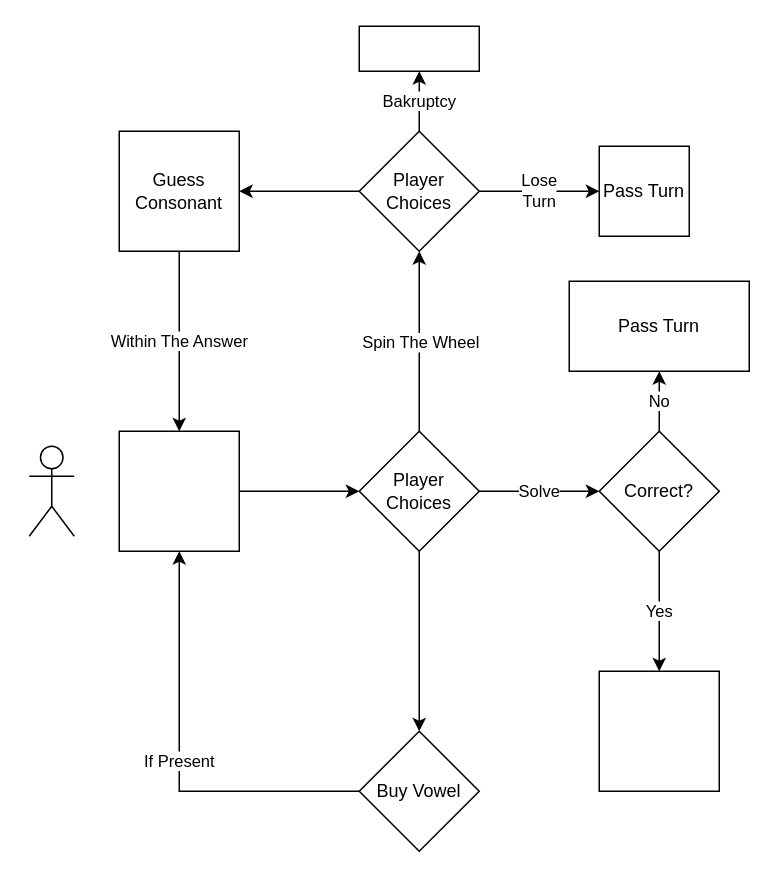
The diagram is 776 pixels wide and 878 high, and some of its shapes have lost their labels. Here are the shapes that lost their labels. From the top down, the centre of each, then its label:
(418,48): Lose Cash
(51,490): Player
(178,490): Turn
(658,730): Gain Permanent Earnings
